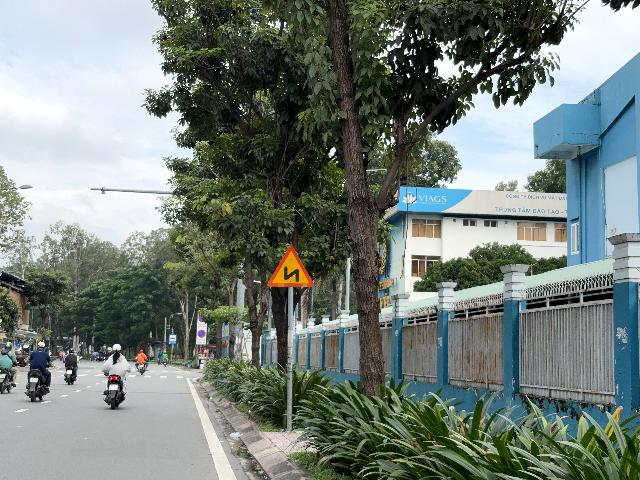nhieu-cho-ngoat-nguy-hiem-lien-tiep: (267, 244, 314, 287)
